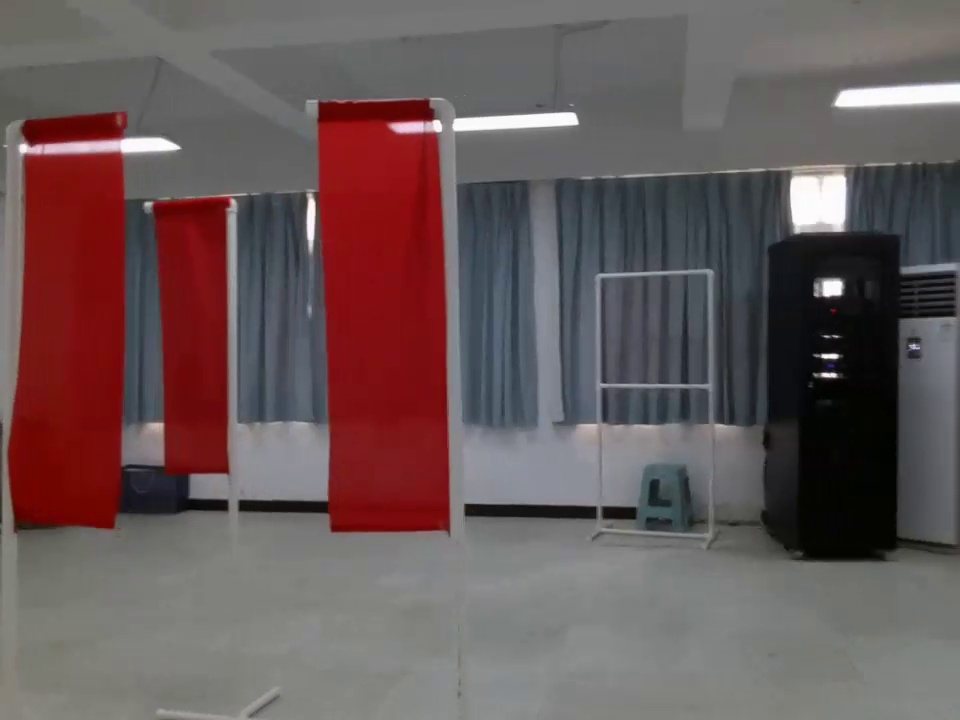qi: (300, 91, 474, 575), (3, 102, 129, 542), (156, 186, 241, 505)
